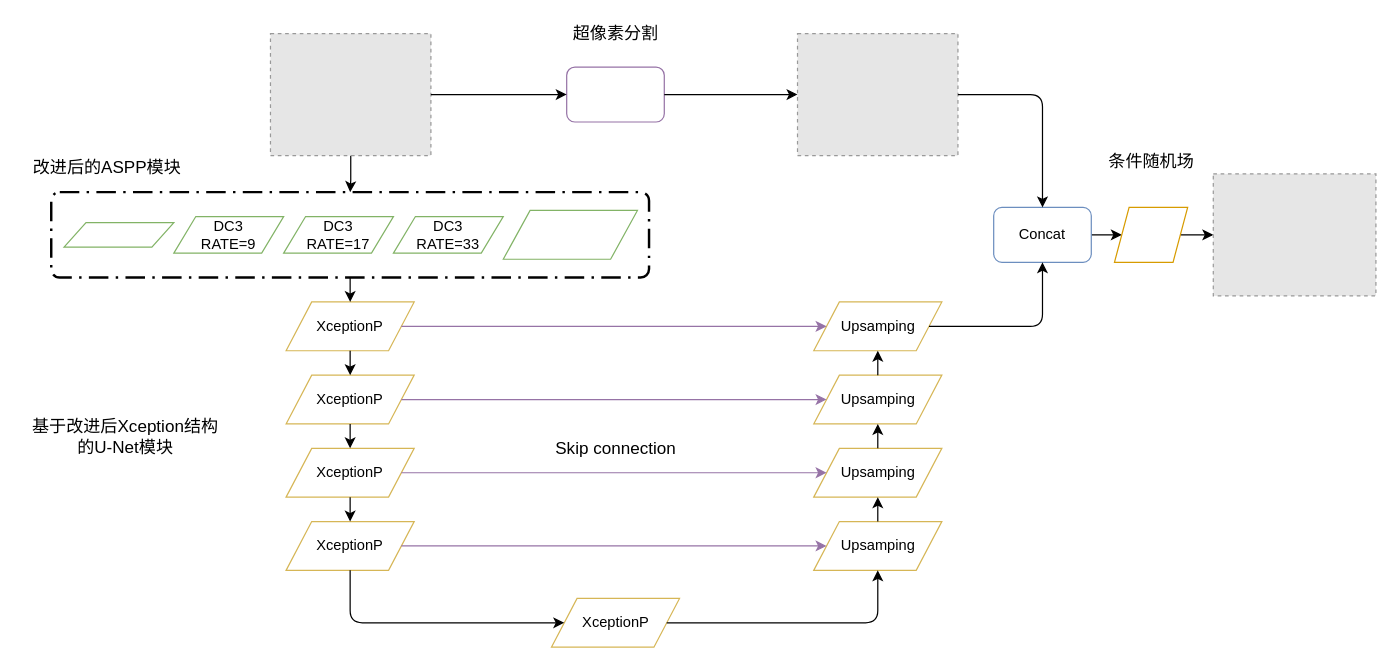
Image size: 1397x669. Some labels were removed from this diagram. Grey dashed boxes stand in for pictures. The centre of each missing label's shape, as x and y in pixels:
"1x1 Conv" belongs at point 118,234.
"CRF" belongs at point 1150,234.
"Global avg pool" belongs at point 569,234.
"SLIC" belongs at point 614,94.
